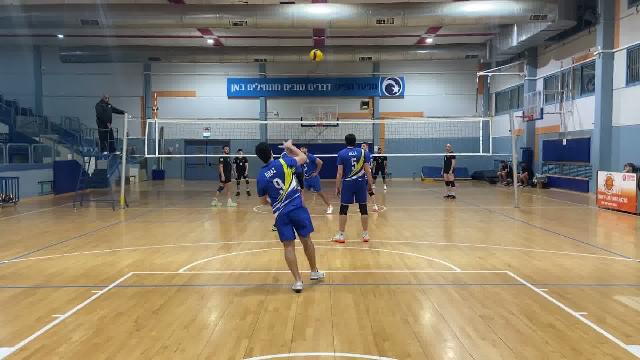ball: (309, 47, 324, 63)
